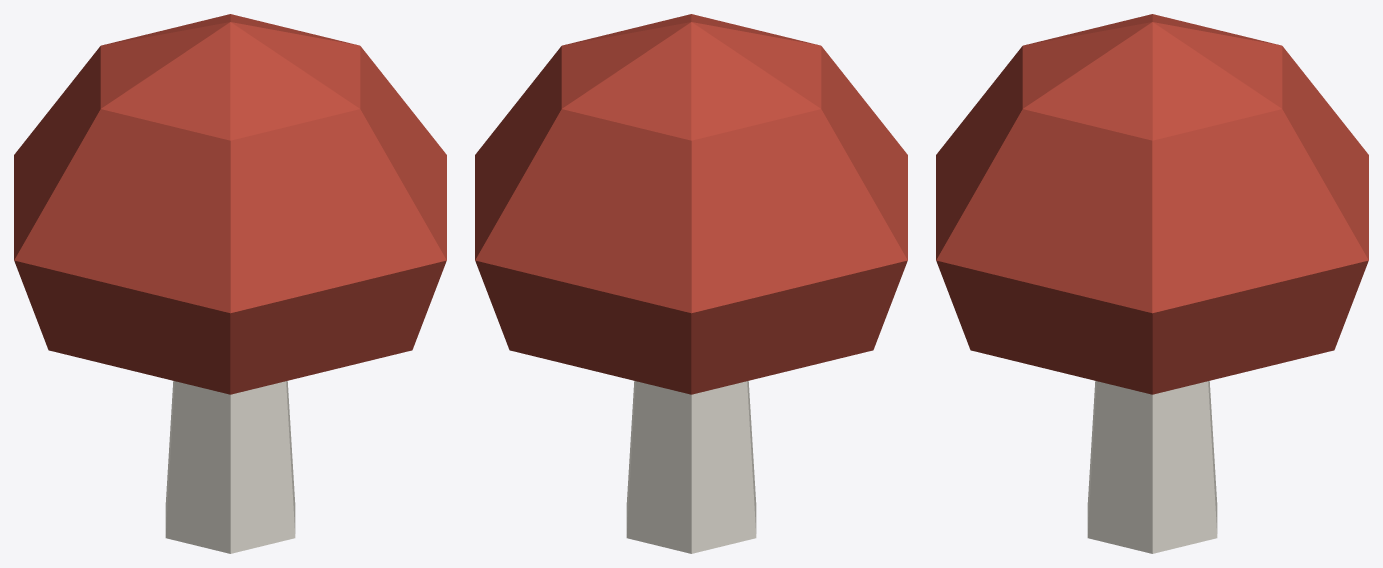
Rendered from Hilly_Prop_Mushroom_1.obj.
3 renders of one model, left to right at view 1: azimuth 30°, elevation 25°; view 2: azimuth 150°, elevation 25°; view 3: azimuth 270°, elevation 25°, orthographic.
Visible parts, largest first — view 1: object2, object1; view 2: object2, object1; view 3: object2, object1.
Part boxes in pixels (<box>): object2: <box>14,14,446,394</box>; object1: <box>165,381,295,553</box>; object2: <box>475,14,907,394</box>; object1: <box>626,381,756,553</box>; object2: <box>936,14,1368,394</box>; object1: <box>1087,381,1217,553</box>.
Bounding box in the file's own units: 0.25 × 0.2762 × 0.2165.
